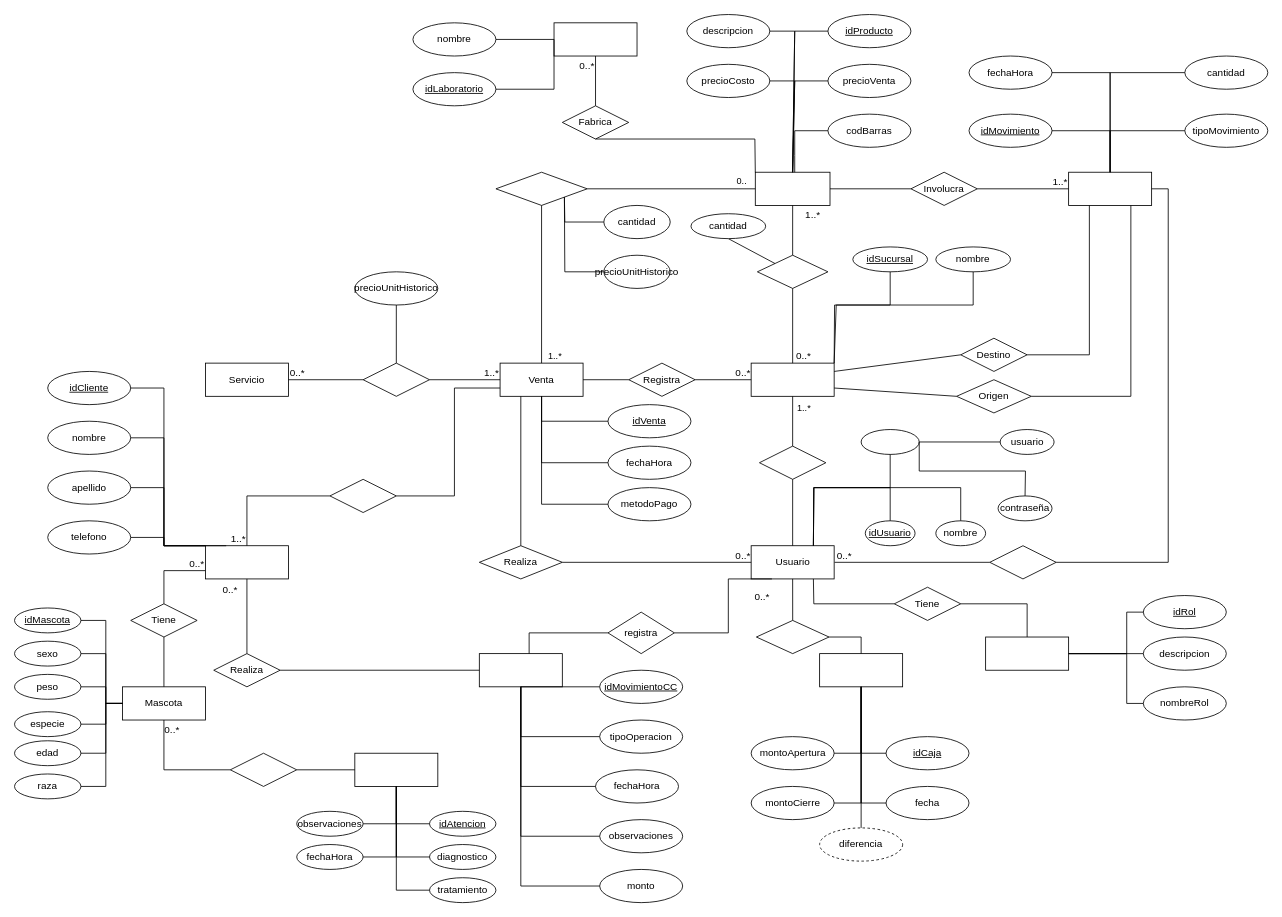
This 1282x917 diagram has some shape labels left out. Here are the shapes that lost their labels. From the top down, the centre of each, then its label:
At point 595,39: "Laboratorio".
At point 541,188: "detalleVentaProducto".
At point 792,188: "Producto".
At point 1110,188: "MovimientoStock".
At point 792,271: "Stock".
At point 396,379: "detalleVentaServicio".
At point 792,379: "Sucursal".
At point 889,441: "credenciales".
At point 792,462: "Trabaja".
At point 362,495: "Genera".
At point 246,562: "Cliente".
At point 1022,562: "Ejecuta".
At point 792,637: "Maneja".
At point 1027,653: "Rol".
At point 520,670: "MovimientoCC".
At point 861,670: "Caja".
At point 263,769: "Recibe".
At point 396,769: "AtencionMedica".
